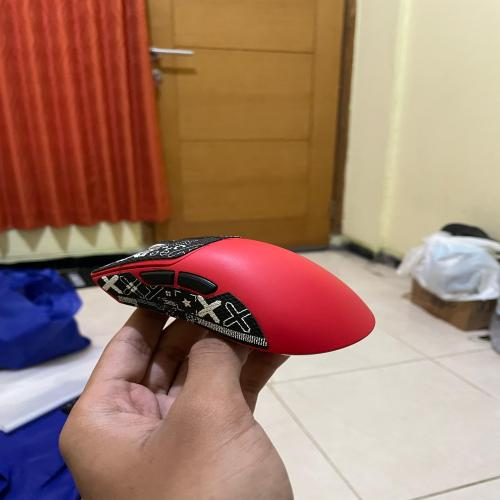mouse: (83, 223, 398, 362)
